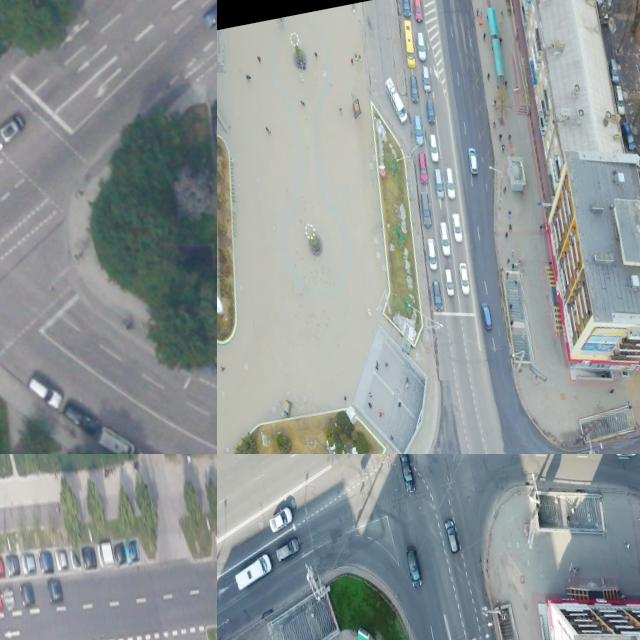UAI: (59, 393, 103, 444), (26, 370, 66, 415), (94, 420, 138, 454), (0, 111, 29, 154), (405, 546, 423, 590), (267, 506, 295, 533), (436, 220, 455, 258), (398, 454, 416, 494), (442, 165, 460, 204), (418, 190, 436, 228), (274, 537, 301, 562), (444, 519, 462, 556), (457, 260, 474, 299), (429, 277, 446, 314), (415, 150, 432, 186), (424, 237, 441, 272), (198, 0, 217, 31), (466, 145, 483, 179), (414, 30, 431, 63), (205, 96, 217, 142), (411, 112, 427, 146), (45, 576, 64, 604), (419, 64, 436, 95), (450, 210, 465, 245), (479, 299, 495, 331), (96, 540, 114, 568), (426, 133, 442, 164), (406, 73, 422, 104), (432, 167, 447, 200), (442, 268, 457, 300), (19, 582, 36, 608), (81, 544, 98, 570), (37, 548, 54, 574), (423, 97, 438, 126), (410, 0, 426, 27), (134, 444, 175, 454), (20, 552, 37, 576), (2, 585, 16, 613), (112, 540, 127, 566), (5, 553, 21, 577), (124, 539, 140, 562), (210, 166, 217, 218), (54, 548, 69, 571), (70, 548, 82, 570), (613, 454, 637, 459), (0, 556, 5, 579)
harvester: (232, 553, 275, 591), (383, 75, 410, 126), (398, 18, 421, 70)
